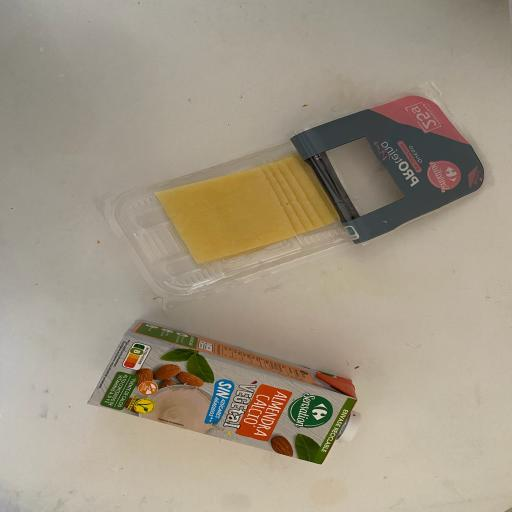cheese: (60, 71, 500, 314)
milk_almendra: (37, 315, 417, 479)
